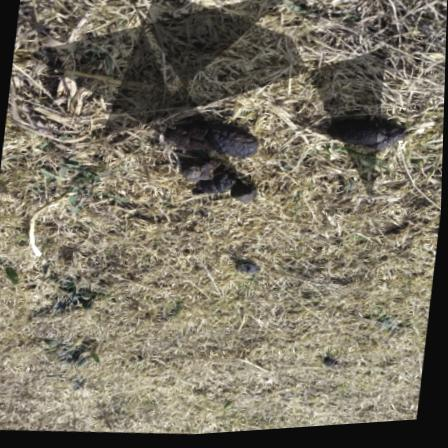dog-poop: (144, 99, 268, 217), (327, 108, 404, 164)
